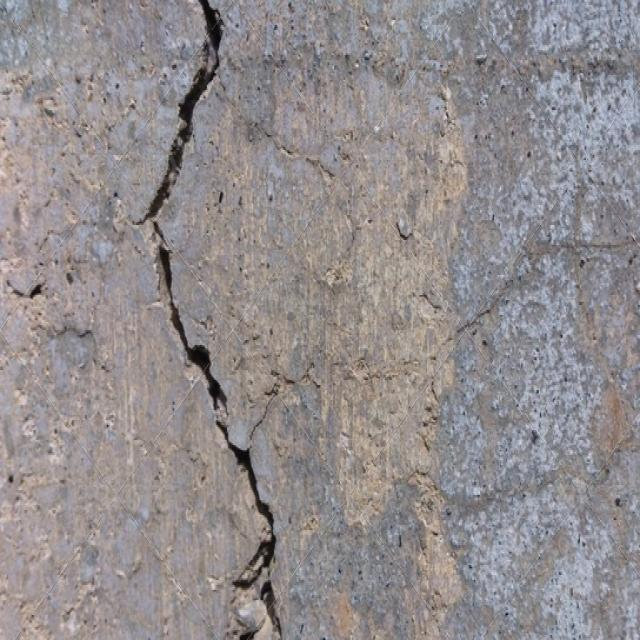Longitudinal: (98, 0, 307, 640)
